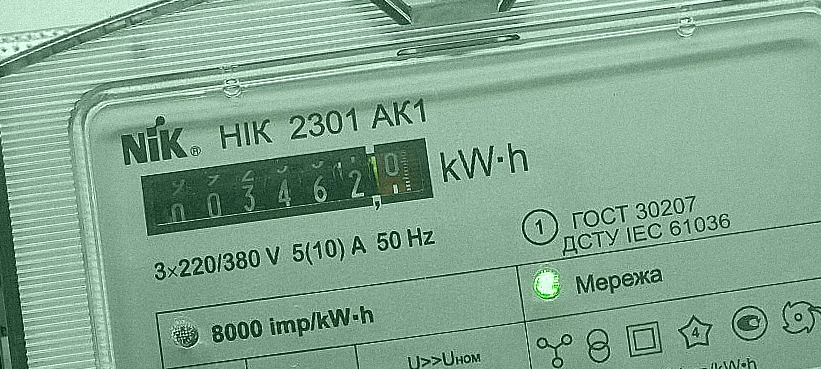0: (202, 188, 224, 219), (381, 149, 401, 179), (166, 199, 187, 224)
2: (345, 166, 367, 200)
3: (237, 181, 259, 215)
4: (273, 175, 294, 209)
6: (307, 170, 331, 207)
9: (166, 176, 188, 198)
screen: (125, 124, 447, 255)
